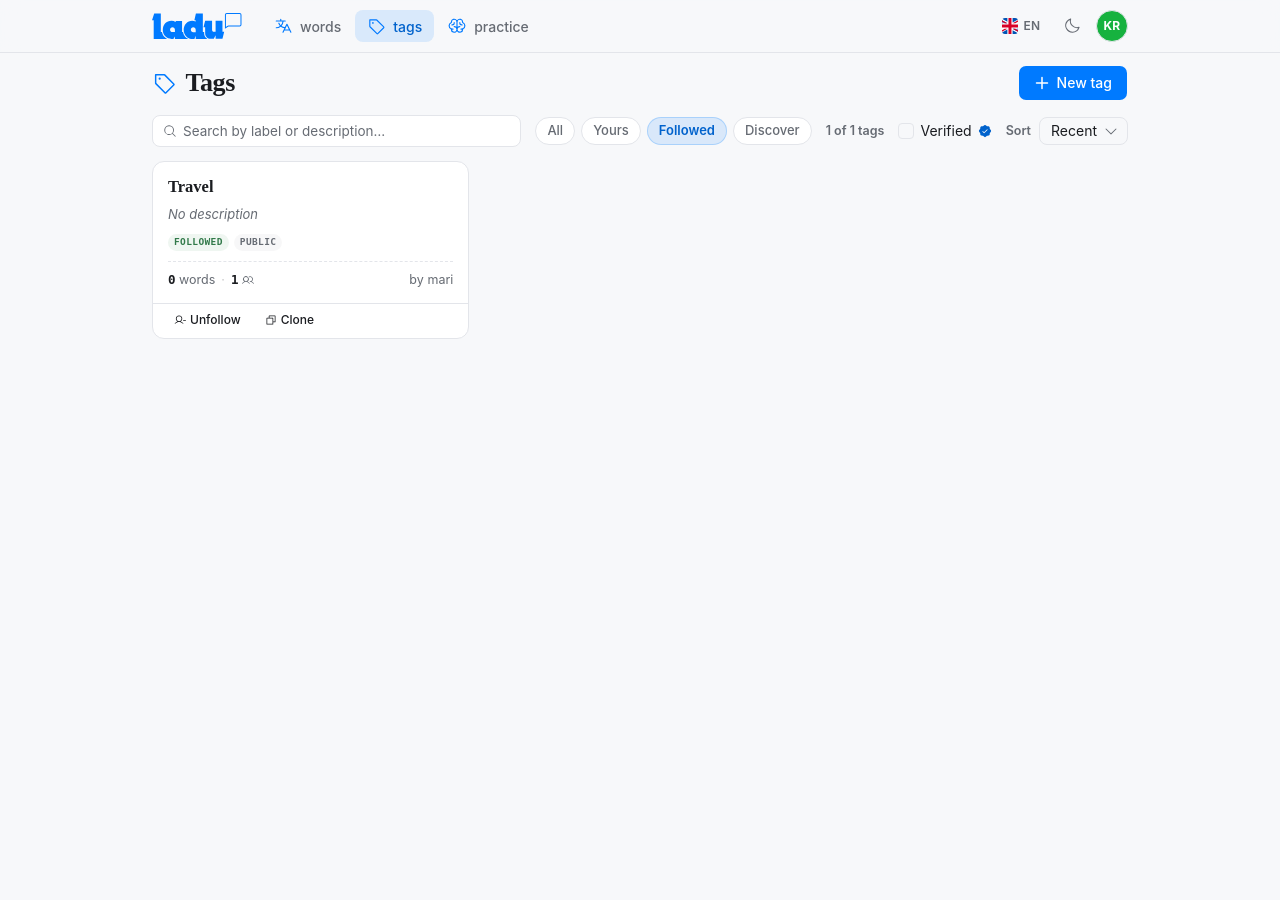
Test: TagsPage — follow / unfollow › Unfollow asks for confirmation before it takes effect
Expected: the text "Travel" is shown, left=168, top=177, right=214, bottom=196
Click the button "Unfollow" at [207, 320], box left=165, top=308, right=250, bottom=332
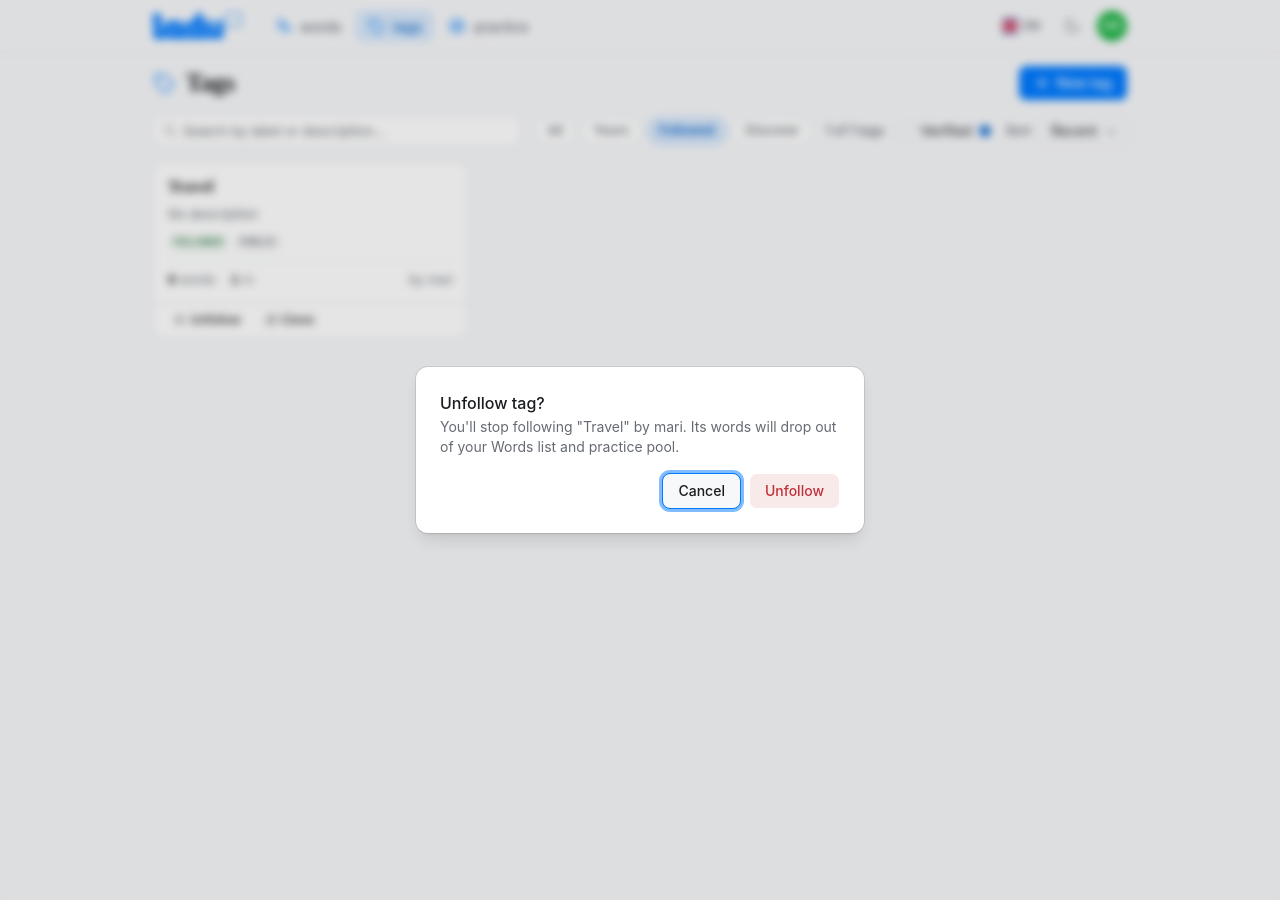
Now the heading "Unfollow tag?" is shown, box left=440, top=393, right=545, bottom=413
Now the text "You'll stop following \"Travel\" by mari" is shown, box left=440, top=418, right=836, bottom=455
Click the button "Unfollow" at [794, 491], box left=749, top=473, right=840, bottom=509
(page scrolled)
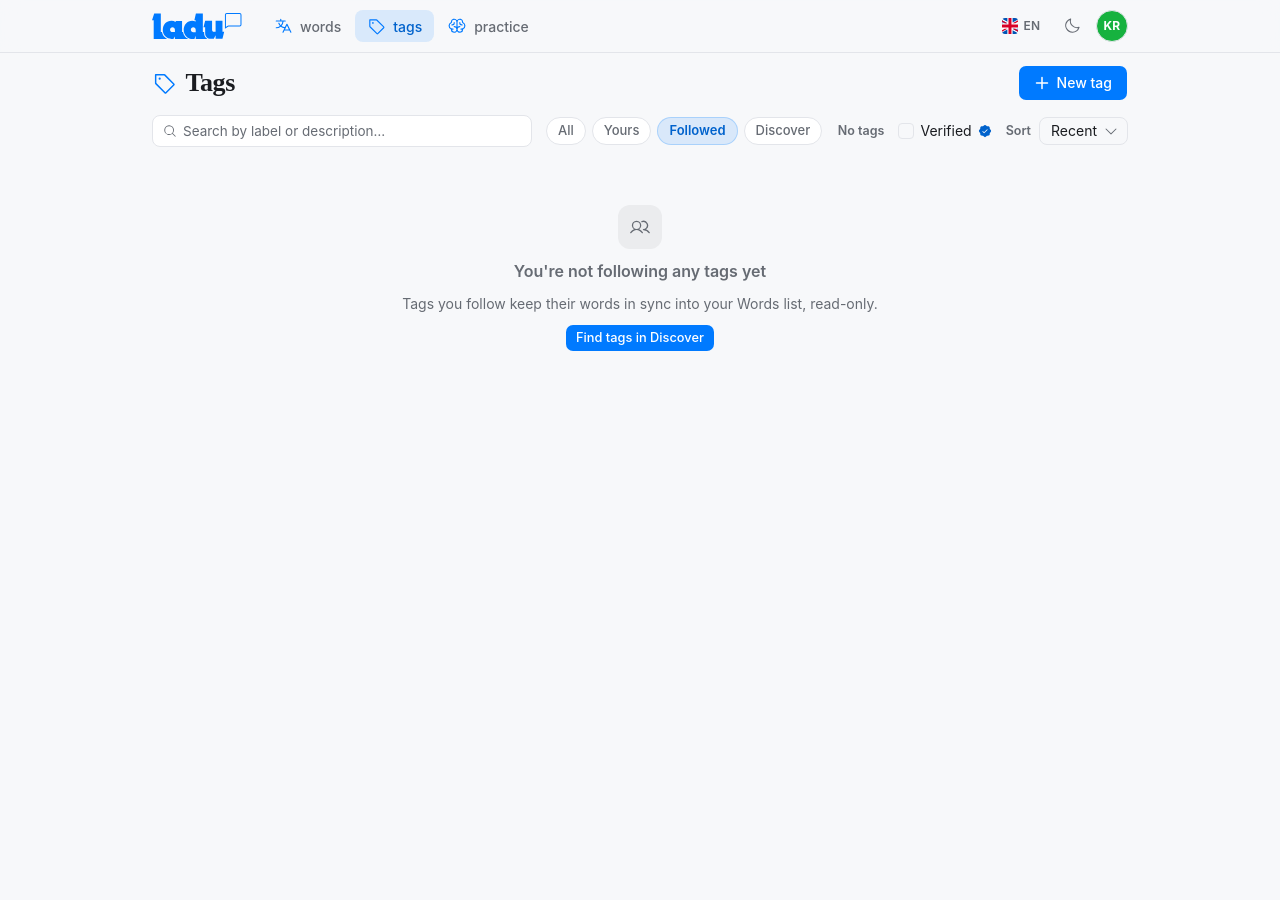
Now the link "Travel" is gone
